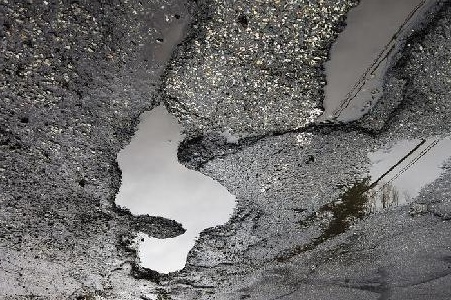pothole: (106, 99, 243, 287), (297, 0, 451, 140)
